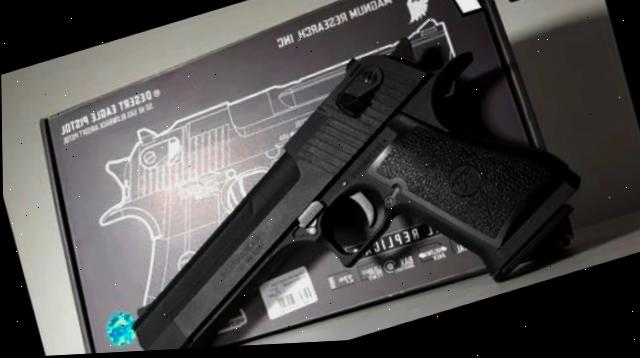pistol: (61, 0, 604, 356)
